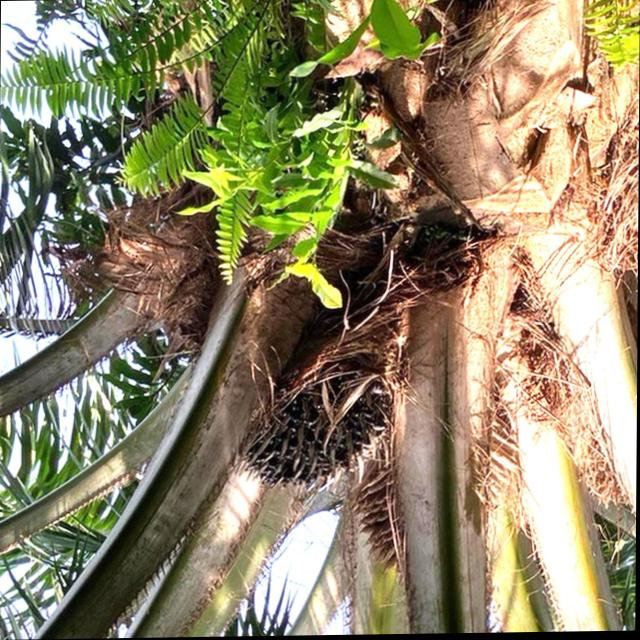unripe: (236, 312, 388, 491)
